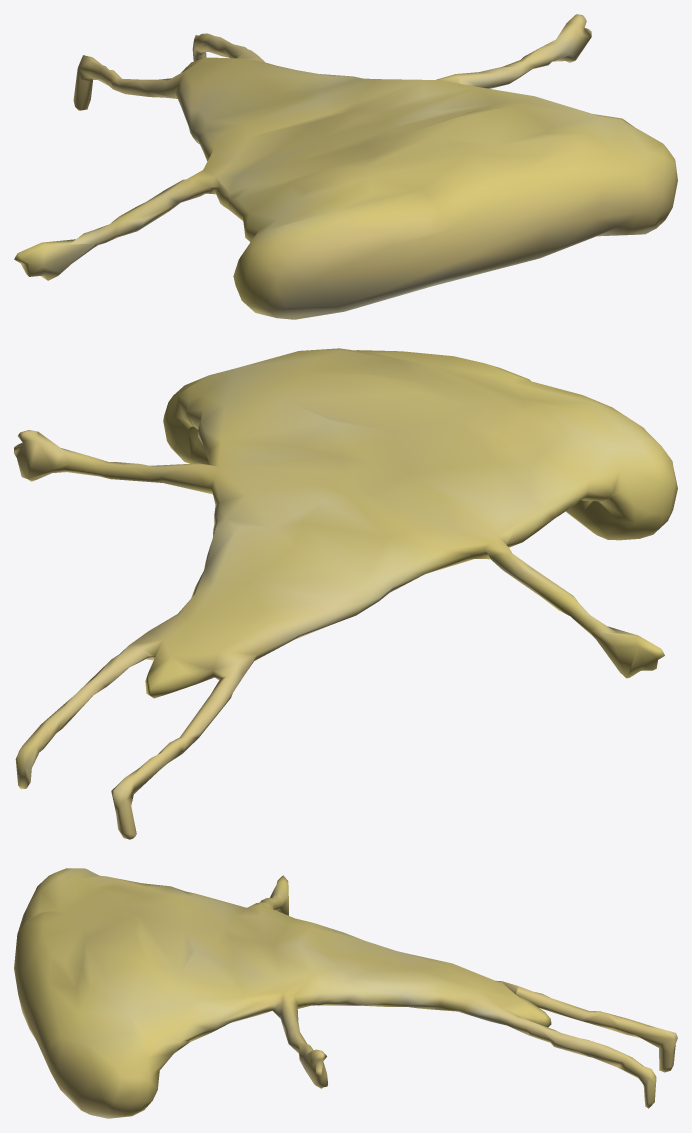
3 renders of one model, top to bottom at view 1: azimuth 30°, elevation 25°; view 2: azimuth 150°, elevation 25°; view 3: azimuth 270°, elevation 25°, orthographic. The views are drawn at different scales.
Parts seen in each view (by area): view 1: LOD 3_12217630209747545319_820756dedd5b3434c8e6bed8ae6a193b; view 2: LOD 3_12217630209747545319_820756dedd5b3434c8e6bed8ae6a193b; view 3: LOD 3_12217630209747545319_820756dedd5b3434c8e6bed8ae6a193b.
Boxes of the visible parts, <box> form: LOD 3_12217630209747545319_820756dedd5b3434c8e6bed8ae6a193b: <box>14,14,677,319</box>; LOD 3_12217630209747545319_820756dedd5b3434c8e6bed8ae6a193b: <box>14,348,677,839</box>; LOD 3_12217630209747545319_820756dedd5b3434c8e6bed8ae6a193b: <box>14,868,677,1118</box>.
Size of the model in its own units: 5.09 by 1.62 by 5.67.
